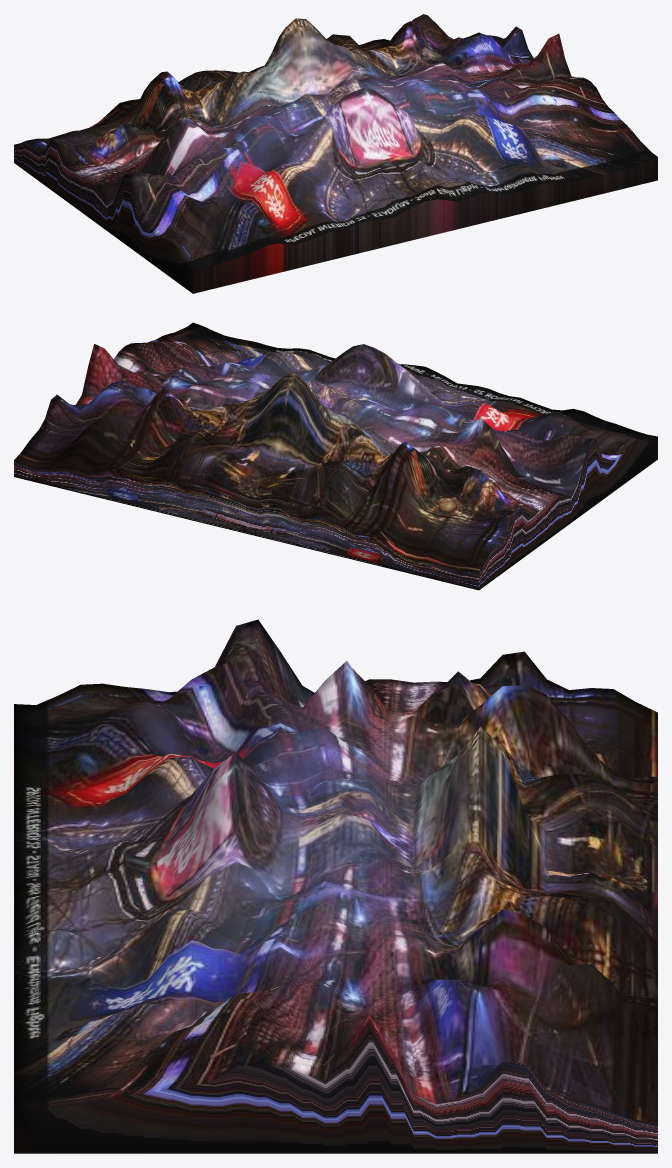
Rendered from SPECIAL_INT_25_Stadium.glb.
The picture shows the model from 3 angles, top to bottom: view 1: azimuth 30°, elevation 25°; view 2: azimuth 150°, elevation 25°; view 3: azimuth 270°, elevation 25°; orthographic projection. The views are drawn at different scales.
Visible parts, largest first — view 1: SPECIAL_INT_25_Stadium; view 2: SPECIAL_INT_25_Stadium; view 3: SPECIAL_INT_25_Stadium.
Boxes of the visible parts, box(x1,y1,x2,y2) form: SPECIAL_INT_25_Stadium: box(14, 14, 657, 293); SPECIAL_INT_25_Stadium: box(14, 322, 657, 590); SPECIAL_INT_25_Stadium: box(14, 619, 657, 1153).
Size of the model in its own units: 2 by 0.51 by 1.33.
1 material, 1 textured.
